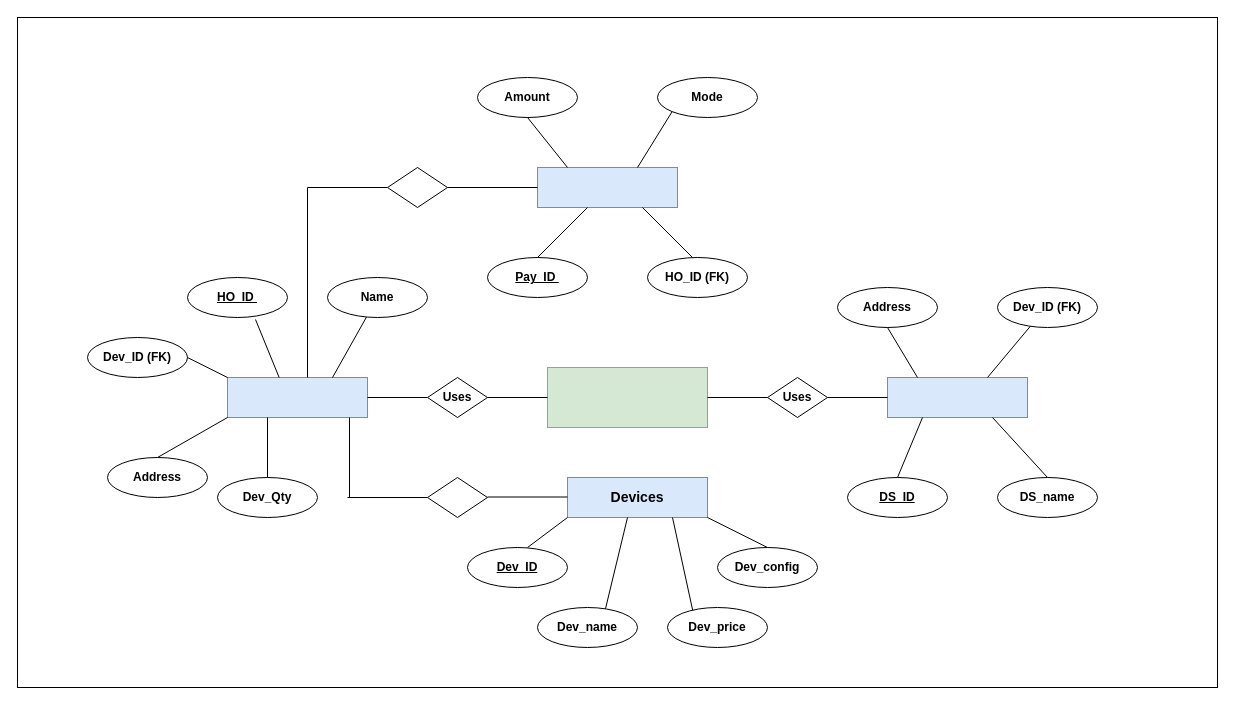
Image size: 1235x705. Some labels were removed from this diagram. The shapes that lost their labels are listed below. From the top down, each one's centre as x and y in pixels, then its label:
the point at 417,187: makes
the point at 607,187: Payment
the point at 297,397: House Owners
the point at 627,397: Smart House Automation System
the point at 957,397: Devices Supplier
the point at 457,497: owns
